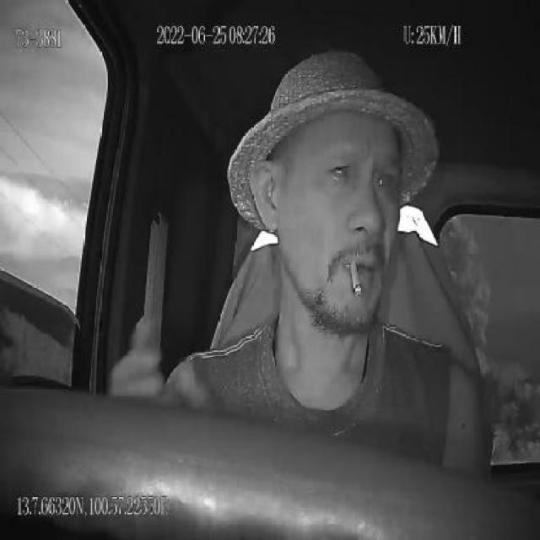smoking: (348, 256, 364, 299)
